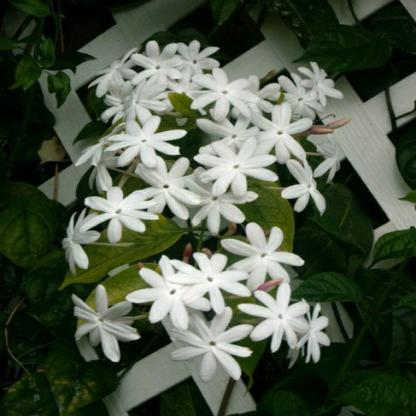Melati: (81, 231, 346, 360), (85, 126, 321, 206), (74, 171, 245, 246), (103, 45, 265, 119), (265, 59, 347, 123)
